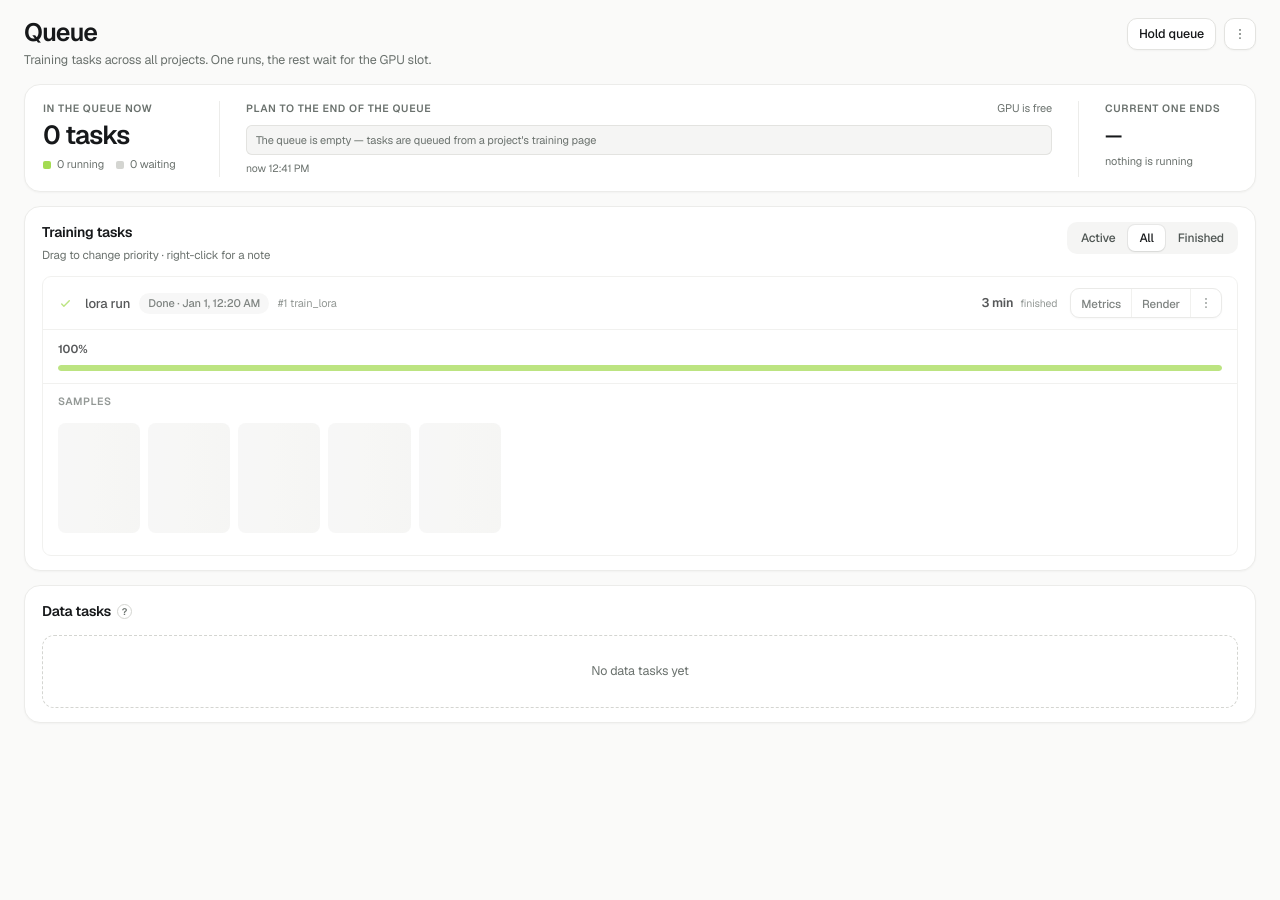
it: right-click opens the menu and saves a note
Right-click the text "lora run" at (108, 303), box [85, 294, 130, 313]
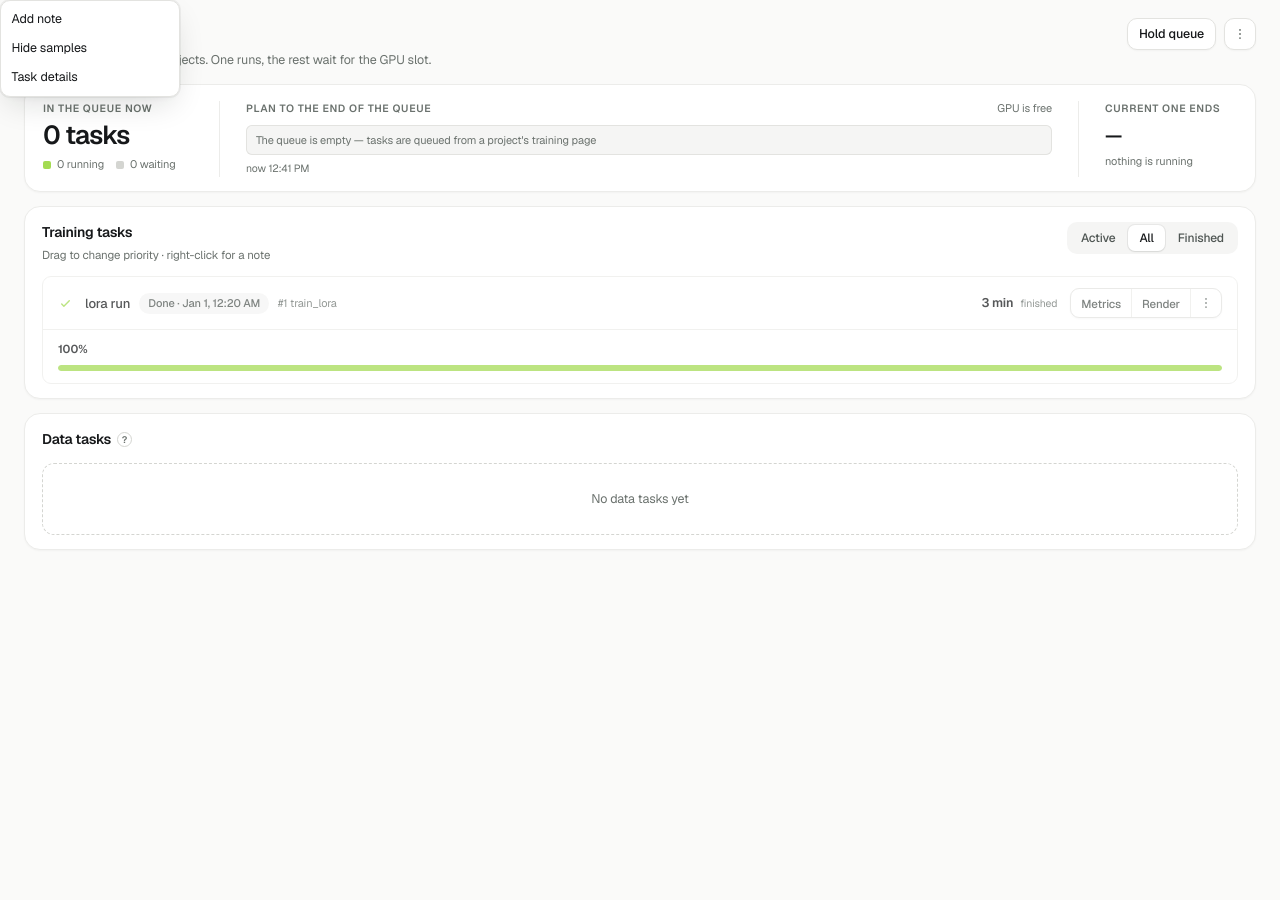
Expected: the menu with test id "queue-context-menu" does not show "Remove note", [0, 0, 180, 97]
Expected: the menu with test id "queue-context-menu" shows "Add note"
Click the menu item "Add note" at (90, 19), box [1, 4, 179, 34]
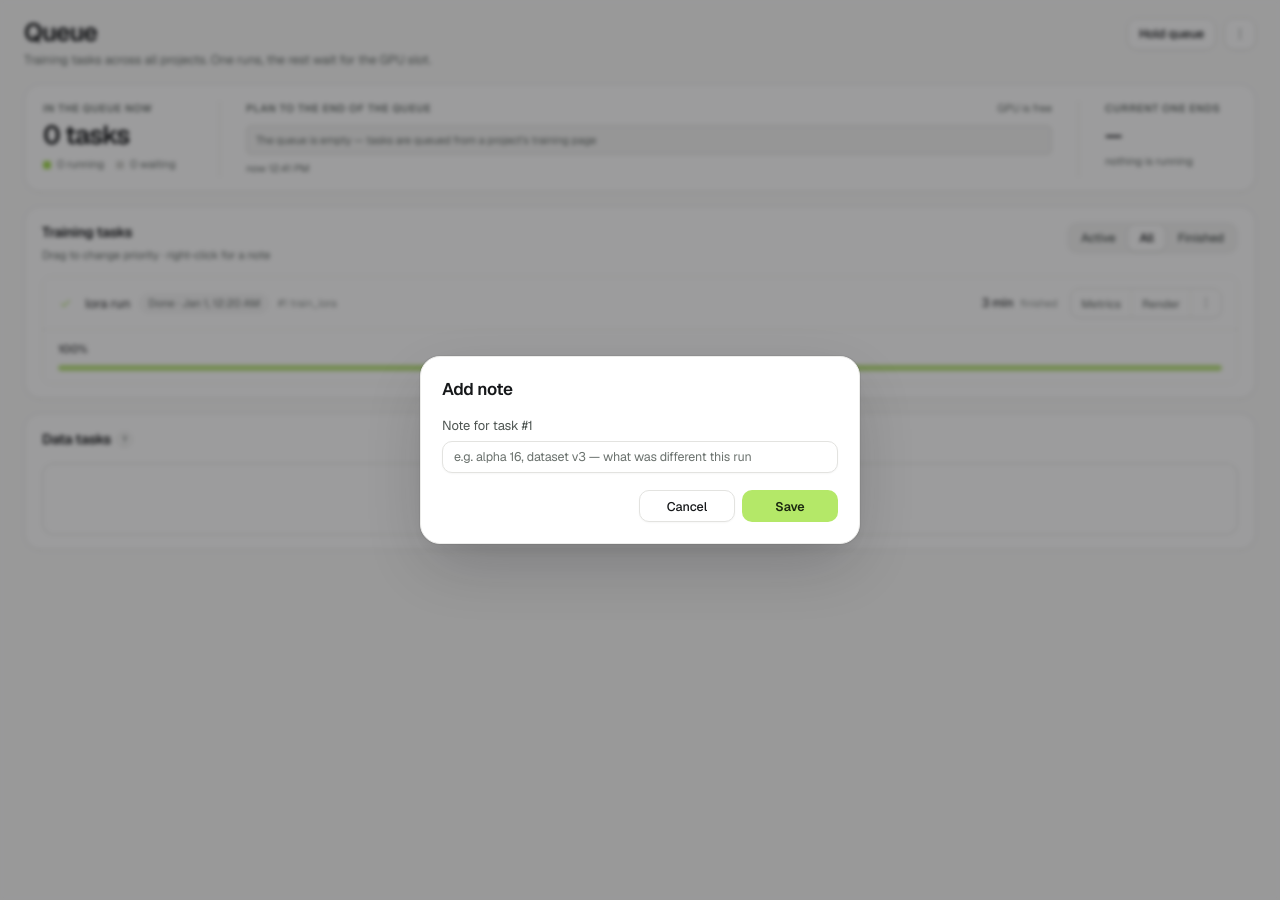
Type "dataset v3" into the field at (640, 456), box [442, 440, 838, 472]
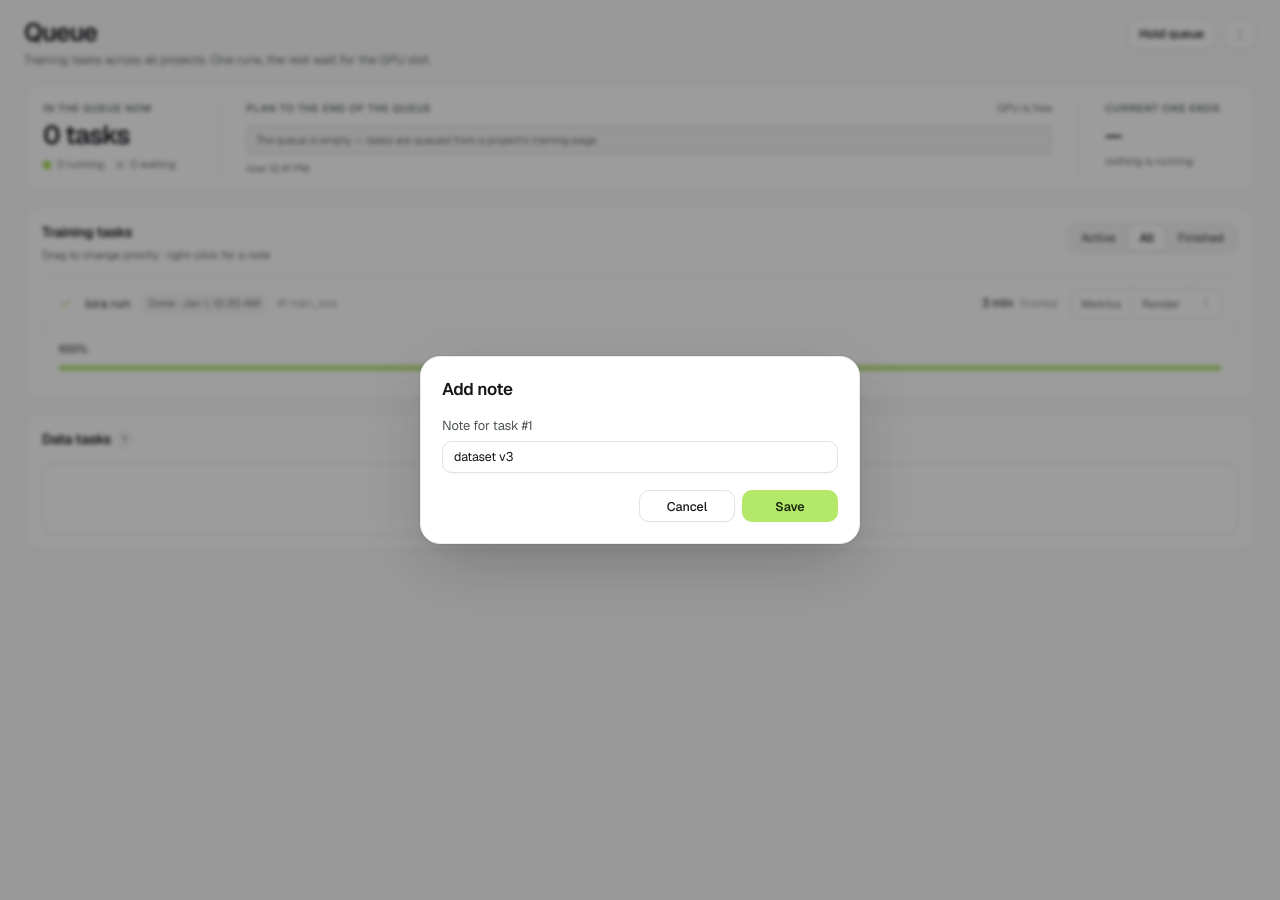
Click the button "Save" at (790, 506), box [742, 490, 838, 522]
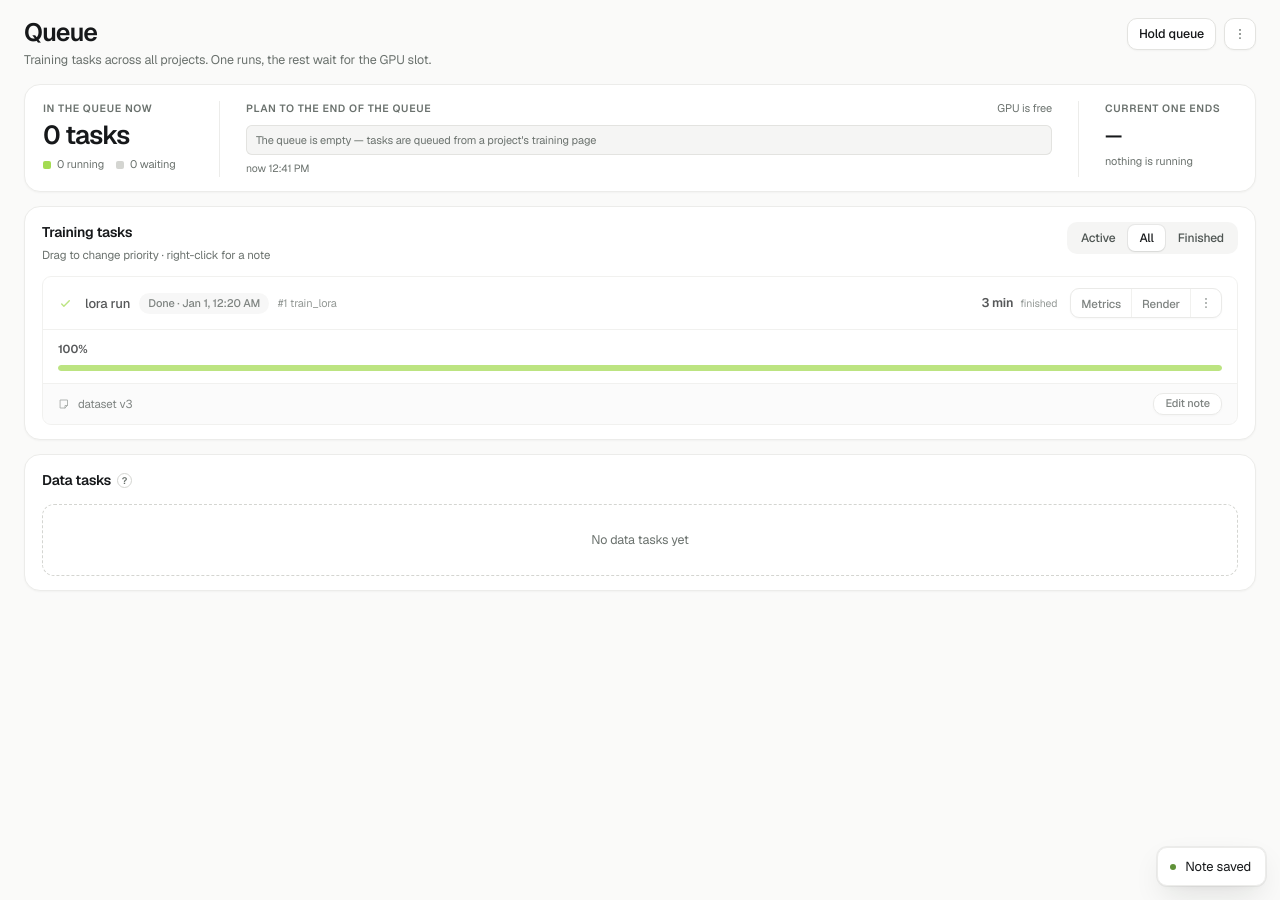
Expected: the element with test id "task-note-1" shows "dataset v3", [78, 396, 132, 411]
